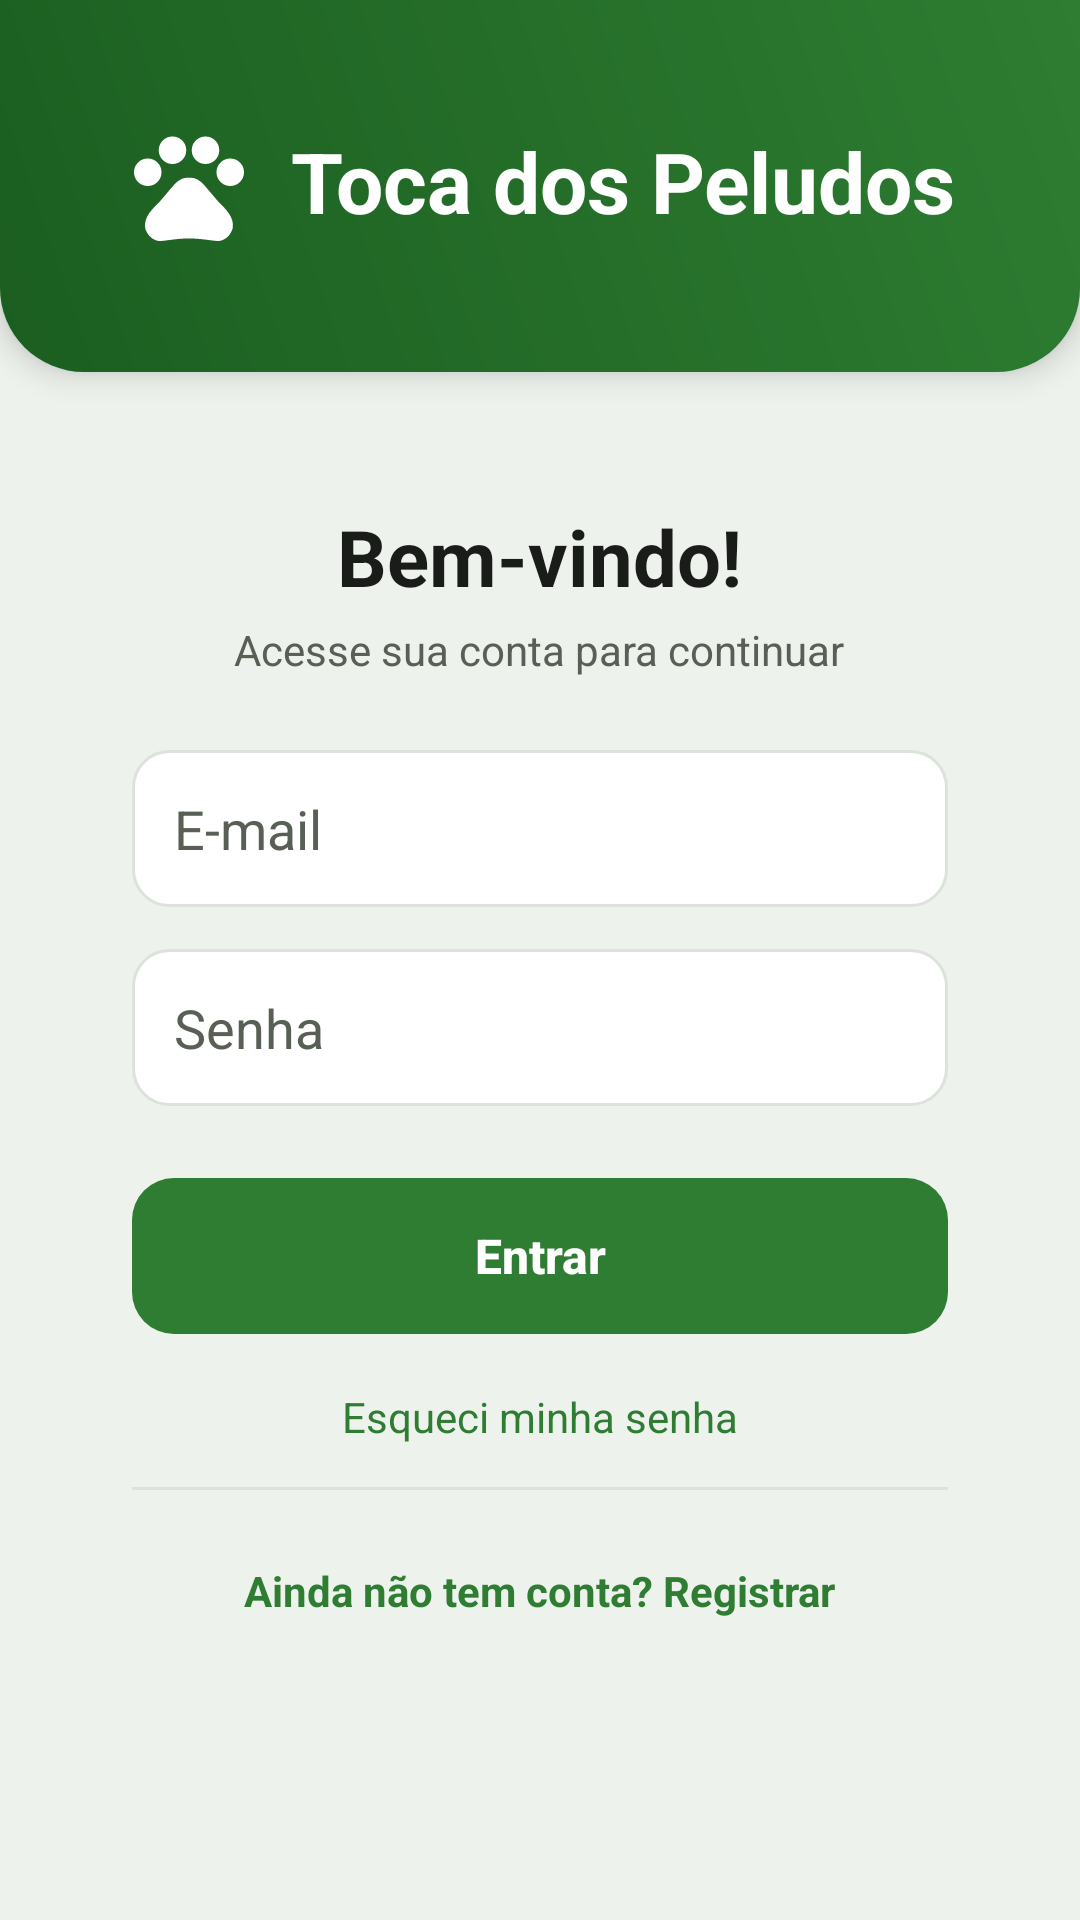

Icons on this 1080×1920 Android screen, each with its box as bbox=(x1, y1, x2, y2):
pata: bbox=(134, 136, 244, 241)
